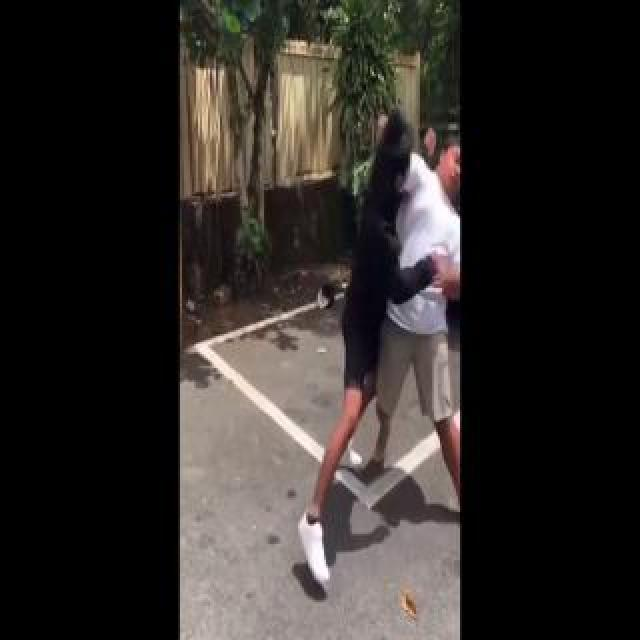fight: (310, 92, 460, 558)
